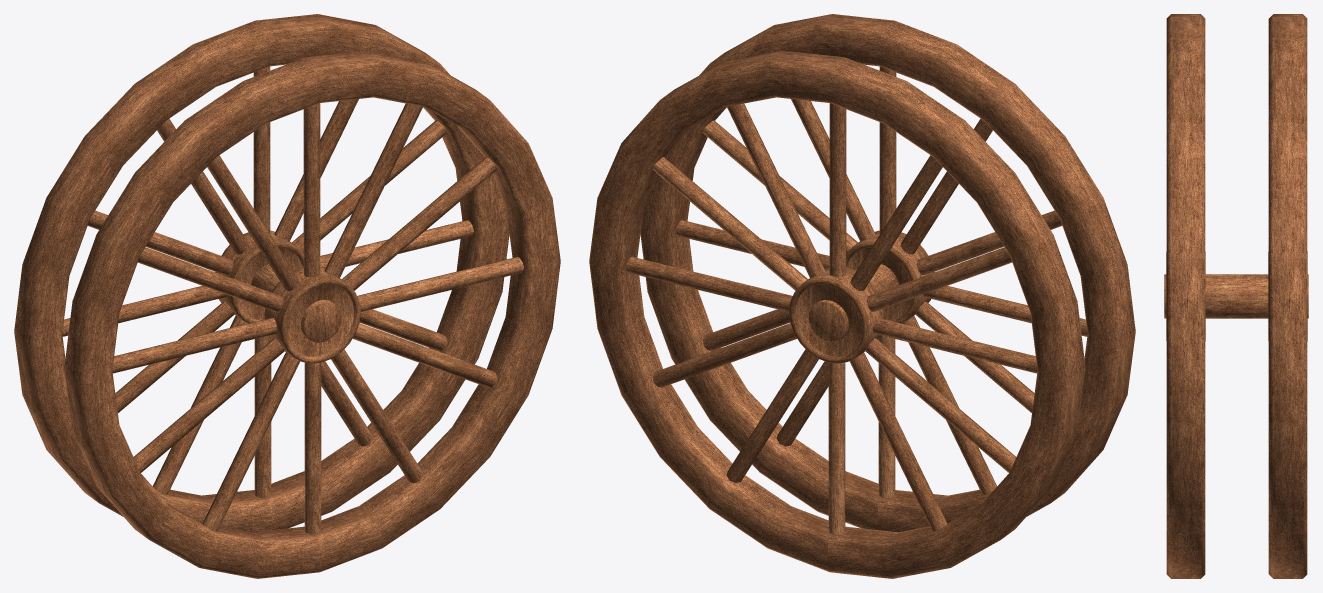
File: Wheel.fbx
3 renders of one model, left to right at view 1: azimuth 30°, elevation 25°; view 2: azimuth 150°, elevation 25°; view 3: azimuth 270°, elevation 25°, orthographic.
Visible parts, largest first — view 1: Wheel; view 2: Wheel; view 3: Wheel.
Part boxes in pixels (x1=…): Wheel: x1=14, y1=14, x2=560, y2=578; Wheel: x1=589, y1=14, x2=1135, y2=578; Wheel: x1=1164, y1=14, x2=1308, y2=578.
Size of what is drawn, in the model's own units: 200 by 200 by 51.
Materials: 1 (1 with a texture image).
